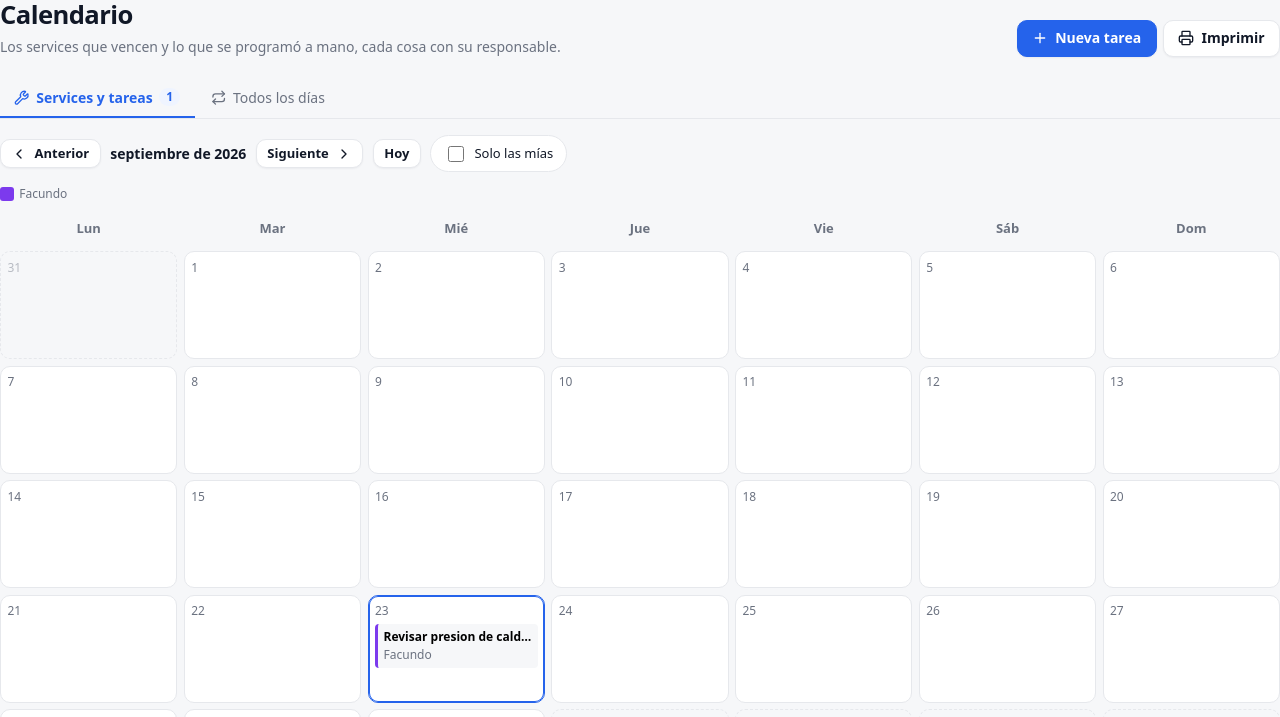
Test: CalendarioPage › una tarea que salio de un plan lo dice, y avisa que corre la proxima fecha
Click the text "Revisar presion de caldera": {"x": 458, "y": 637} [384,628,532,646]
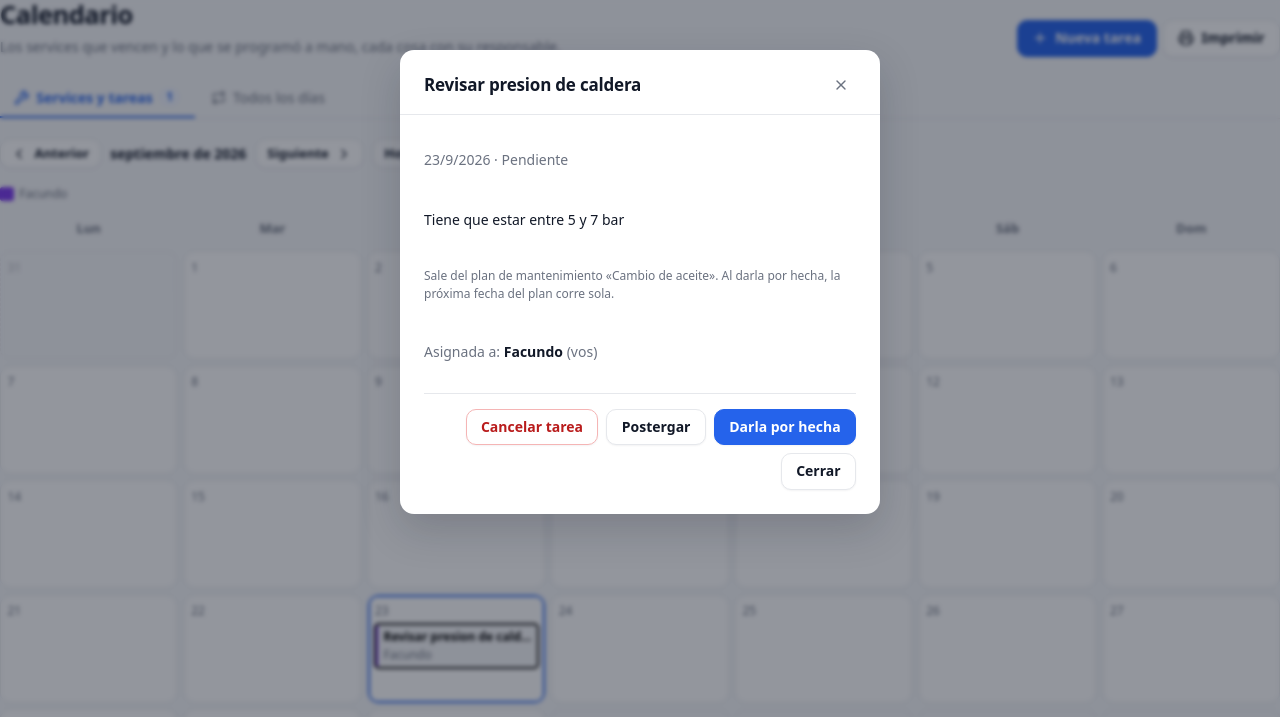
Expected: the text "Cambio de aceite" is shown, [612,267,709,284]
Expected: the text "la próxima fecha del plan corre sola" is shown, [424,267,840,302]
